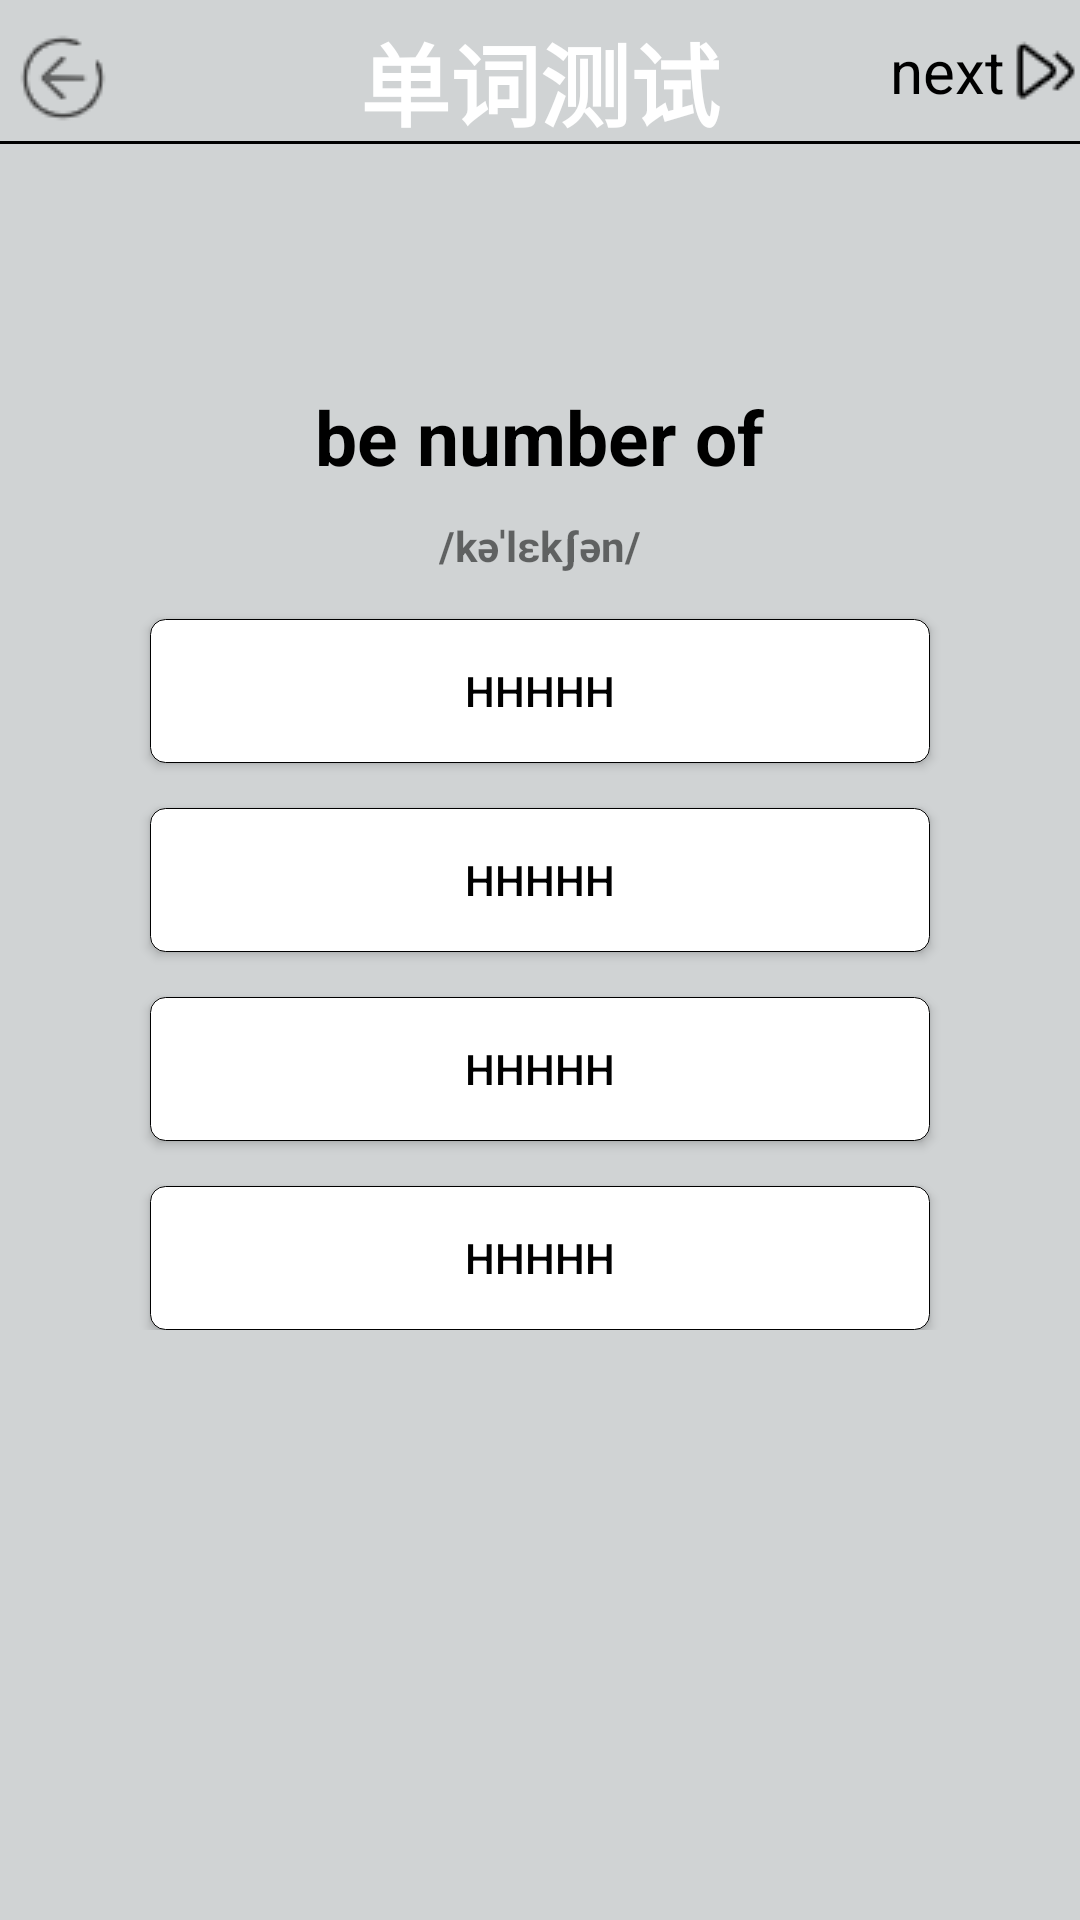

Icons on this 1080x1920 Android screen, each with its box as Rect(x1, y1, x2, y2):
back: Rect(22, 37, 104, 119)
